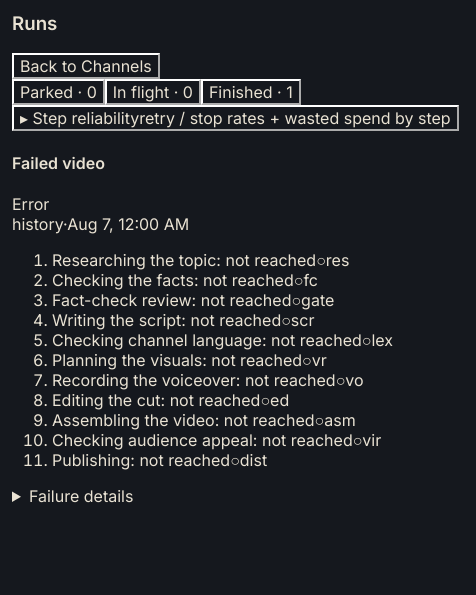
Test case: RunsHub plain-language defaults › keeps status visible and failure detail collapsed until requested
The image size is (476, 595).
Expected: the number of elements with class "run-card__status" is 1, x1=12 y1=194 x2=49 y2=214
Expected: the text with class "run-card__status" reads "Error", x1=12 y1=194 x2=49 y2=214
Step 1. Click the heading "Failure details" → {"x": 81, "y": 496}, box x1=29 y1=486 x2=133 y2=506
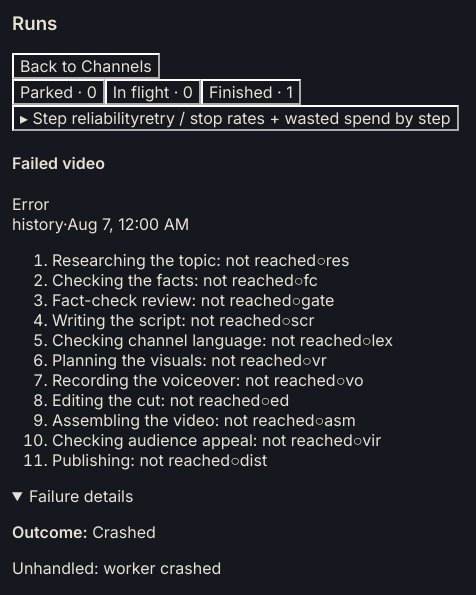
Expected: the text "Crashed" is shown, x1=92 y1=522 x2=156 y2=542
Expected: the text "Unhandled: worker crashed" is shown, x1=12 y1=558 x2=221 y2=578
